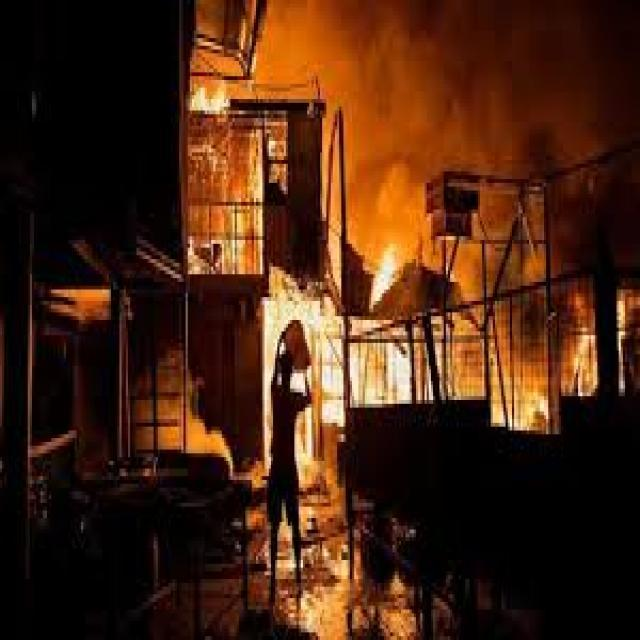Fire: (313, 303, 371, 454)
Smoke: (301, 3, 640, 195)
